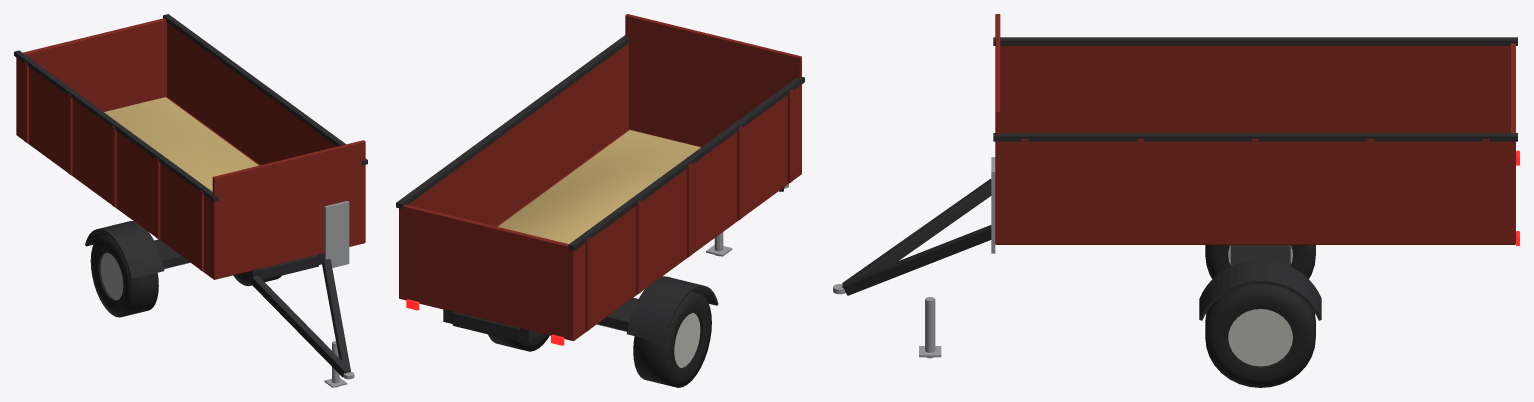
The model's file is remolque.glb.
The picture shows the model from 3 angles, left to right: view 1: azimuth 30°, elevation 25°; view 2: azimuth 150°, elevation 25°; view 3: azimuth 270°, elevation 25°; orthographic projection. The views are drawn at different scales.
Parts seen in each view (by area): view 1: bastidor, carga, rueda_d; view 2: bastidor, carga, rueda_d, rueda_i; view 3: bastidor, rueda_i, rueda_d, pata.
Boxes of the visible parts, box(x1,y1,x2,y2) form: bastidor: box(14, 14, 367, 379); carga: box(104, 97, 258, 191); rueda_d: box(90, 234, 158, 317); bastidor: box(396, 14, 804, 343); carga: box(498, 130, 700, 243); rueda_d: box(633, 292, 711, 387); rueda_i: box(488, 333, 549, 351); bastidor: box(833, 14, 1517, 320); rueda_i: box(1205, 284, 1315, 387); rueda_d: box(1205, 245, 1315, 278); pata: box(919, 297, 941, 358).
Size of the model in its own units: 2.45 by 3.09 by 6.86.
